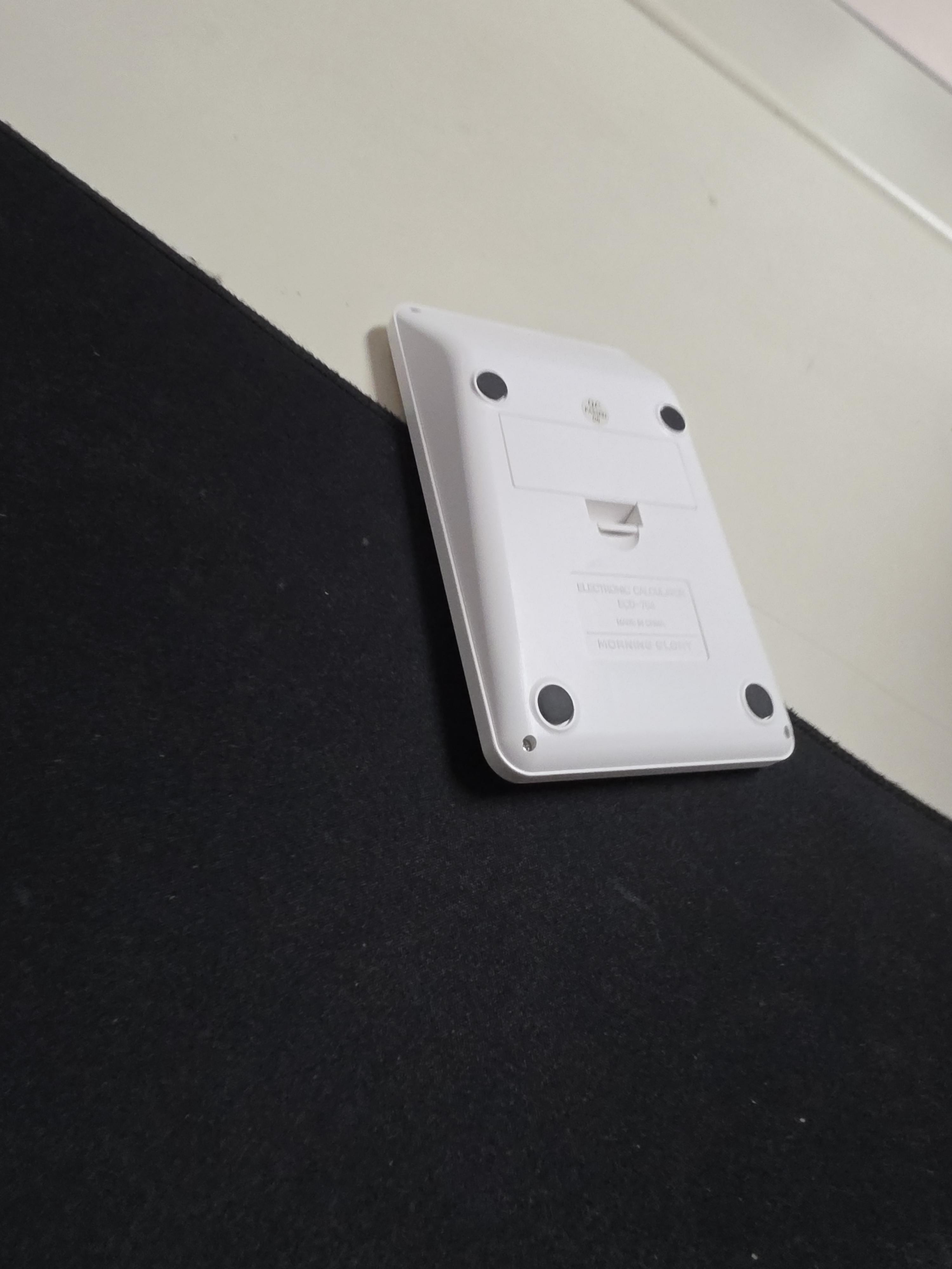calculator: (386, 301, 797, 785)
